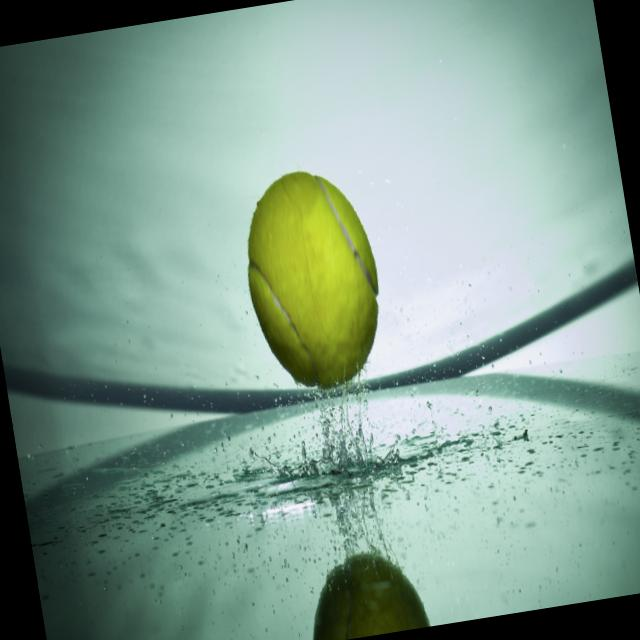Tennis Ball: (233, 158, 395, 399), (300, 546, 429, 640)
